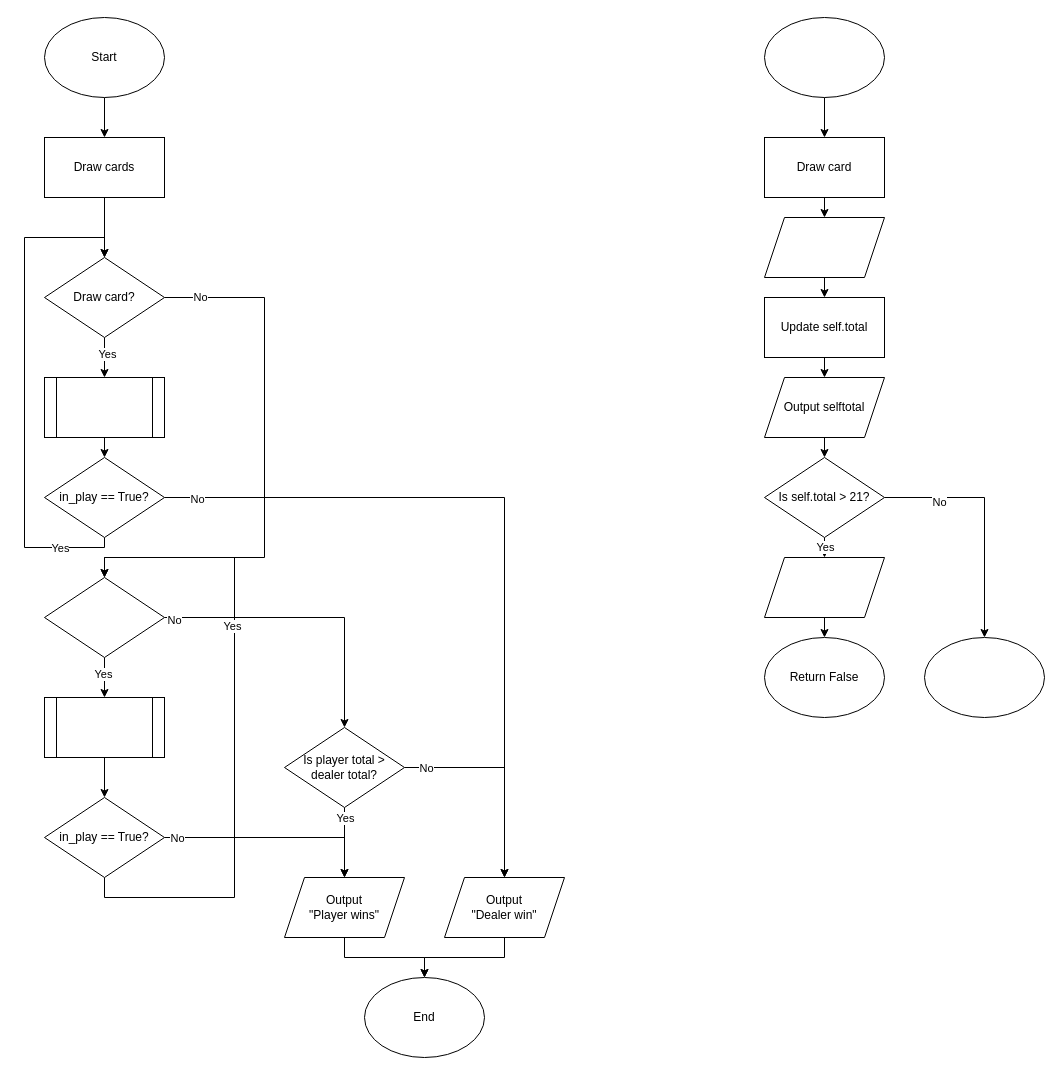
Some shapes in this 1062 by 1075 pixel diagram are drawn without their labels. The shapes that lost their labels are listed below. From the top down, each one's centre as x and y in pixels, then its label:
point 824,57: drawCard(self)
point 824,247: Output new card
point 104,407: in_play = player.drawCard()
point 824,587: Output "Bust!"
point 104,617: Is dealer total < 16?
point 984,677: Return True
point 104,727: in_play = dealer.drawCard()
